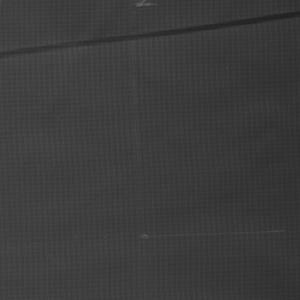Damage: (137, 228, 288, 244), (129, 1, 161, 11)
Wrinkle: (1, 7, 300, 77)
